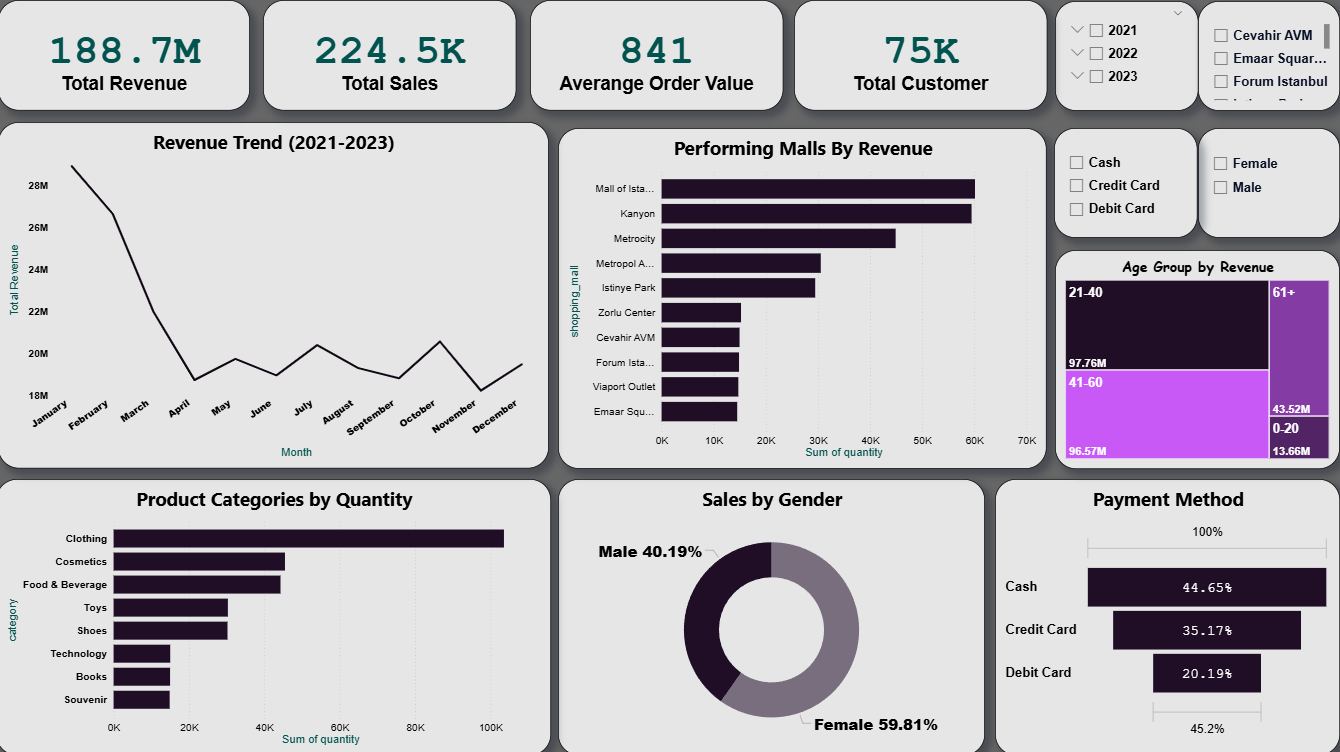

Layout of this report page (visuals, bound fields, positions):
{"tool":"powerbi","page":{"name":"Dashboard","canvas":[1920,1080],"ordinal":0},"visuals":[{"type":"donutChart","title":"Sales by Gender","fields":{"Category":["project_customer_segmentation customer (2).gender"],"Y":["Sum(project_customer_segmentation customer (2).quantity)"]},"box":[803.3,685,610,395],"z":0},{"type":"barChart","title":"Product Categories by Quantity","fields":{"Category":["project_customer_segmentation customer (2).category"],"Y":["Sum(project_customer_segmentation customer (2).quantity)"]},"box":[0,685,793.3,395],"z":1000},{"type":"barChart","title":"Performing Malls By Revenue","fields":{"Category":["project_customer_segmentation customer (2).shopping_mall"],"Y":["Sum(project_customer_segmentation customer (2).quantity)"]},"box":[803.3,183.3,698.3,486.7],"z":2000},{"type":"funnel","title":"Payment Method","fields":{"Category":["project_customer_segmentation customer (2).payment_method"],"Y":["Sum(project_customer_segmentation customer (2).quantity)"]},"box":[1426.7,685,493.3,395],"z":3000},{"type":"treemap","title":"Age Group by Revenue","fields":{"Group":["project_customer_segmentation customer (2).Age Group"],"Values":["project_customer_segmentation customer (2).Total Revenue"]},"box":[1513.3,356.7,406.7,313.3],"z":4000},{"type":"slicer","title":"Sales in Gender","fields":{"Values":["project_customer_segmentation customer (2).invoice_date.Variation.Date Hierarchy.Year","project_customer_segmentation customer (2).invoice_date.Variation.Date Hierarchy.Month"]},"box":[1513.3,1.7,205,156.7],"z":5000},{"type":"slicer","title":"Sales in Gender","fields":{"Values":["project_customer_segmentation customer (2).shopping_mall"]},"box":[1716.7,1.7,203.3,156.7],"z":6000},{"type":"slicer","title":"Sales in Gender","fields":{"Values":["project_customer_segmentation customer (2).gender"]},"box":[1716.7,183.3,203.3,156.7],"z":7000},{"type":"lineChart","title":"Revenue Trend (2021-2023)","fields":{"Category":["project_customer_segmentation customer (2).invoice_date.Variation.Date Hierarchy.Year","project_customer_segmentation customer (2).invoice_date.Variation.Date Hierarchy.Quarter","project_customer_segmentation customer (2).invoice_date.Variation.Date Hierarchy.Month","project_customer_segmentation customer (2).invoice_date.Variation.Date Hierarchy.Day"],"Y":["Divide(project_customer_segmentation customer (2).Total Revenue, ScopedEval(project_customer_segmentation customer (2).T"]},"box":[3.3,175,786.7,495],"z":8000},{"type":"card","title":"Top 5 Shopping_Mall [Sales]","fields":{"Values":["project_customer_segmentation customer (2).Total Revenue"]},"box":[3.3,0,360,158.3],"z":9000},{"type":"card","title":"Top 5 Shopping_Mall [Sales]","fields":{"Values":["Sum(project_customer_segmentation customer (2).quantity)"]},"box":[381.7,0,361.7,158.3],"z":10000},{"type":"slicer","title":"Sales in Gender","fields":{"Values":["project_customer_segmentation customer (2).payment_method"]},"box":[1511.7,183.3,205,156.7],"z":11000},{"type":"card","title":"Top 5 Shopping_Mall [Sales]","fields":{"Values":["project_customer_segmentation customer (2).Averange Order Value"]},"box":[763.3,0,361.7,158.3],"z":12000},{"type":"card","title":"Top 5 Shopping_Mall [Sales]","fields":{"Values":["project_customer_segmentation customer (2).Total Customer"]},"box":[1140,0,361.7,158.3],"z":13000}]}

Visuals, with their boxes in screenshot pixels (x1, y1, x2, y2), scaled from the page's 1920x1080 canvas onto the 1340x752 screenshot:
"Sales by Gender" donutChart: bbox=(561, 477, 986, 751)
"Product Categories by Quantity" barChart: bbox=(0, 477, 554, 751)
"Performing Malls By Revenue" barChart: bbox=(561, 128, 1048, 467)
"Payment Method" funnel: bbox=(996, 477, 1339, 751)
"Age Group by Revenue" treemap: bbox=(1056, 248, 1339, 467)
"Sales in Gender" slicer: bbox=(1056, 1, 1199, 110)
"Sales in Gender" slicer: bbox=(1198, 1, 1339, 110)
"Sales in Gender" slicer: bbox=(1198, 128, 1339, 237)
"Revenue Trend (2021-2023)" lineChart: bbox=(2, 122, 551, 467)
"Top 5 Shopping_Mall [Sales]" card: bbox=(2, 0, 254, 110)
"Top 5 Shopping_Mall [Sales]" card: bbox=(266, 0, 519, 110)
"Sales in Gender" slicer: bbox=(1055, 128, 1198, 237)
"Top 5 Shopping_Mall [Sales]" card: bbox=(533, 0, 785, 110)
"Top 5 Shopping_Mall [Sales]" card: bbox=(796, 0, 1048, 110)
